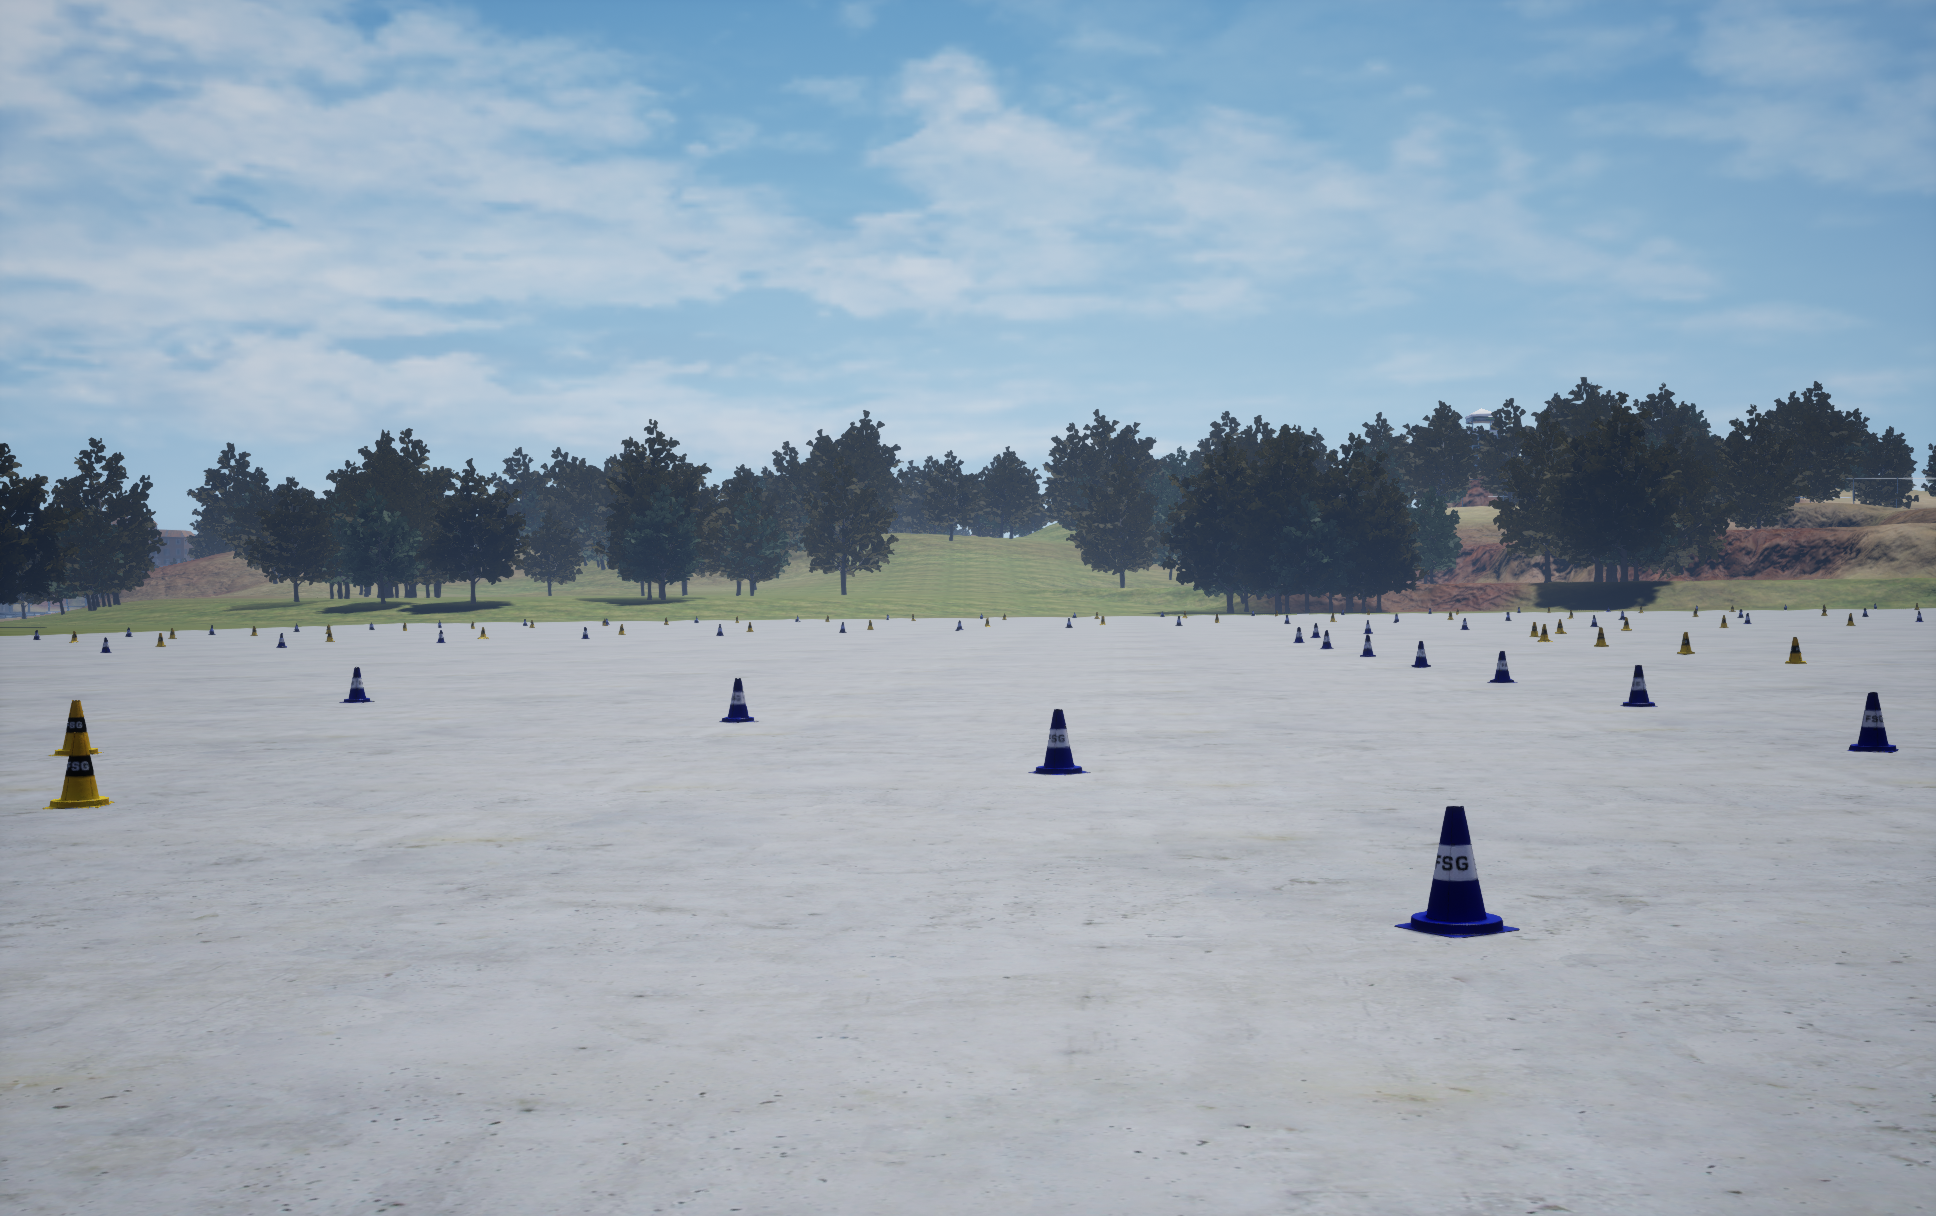blue: (42, 733, 113, 808), (48, 700, 104, 755), (1785, 637, 1806, 663), (1677, 632, 1694, 654), (1594, 628, 1608, 646)
yellow: (1394, 806, 1519, 937), (1028, 709, 1090, 773), (1846, 692, 1898, 752), (719, 678, 758, 721), (1619, 665, 1657, 706), (339, 667, 374, 702), (1486, 651, 1517, 682), (1411, 642, 1430, 667), (1360, 635, 1376, 656), (1320, 630, 1334, 649)
